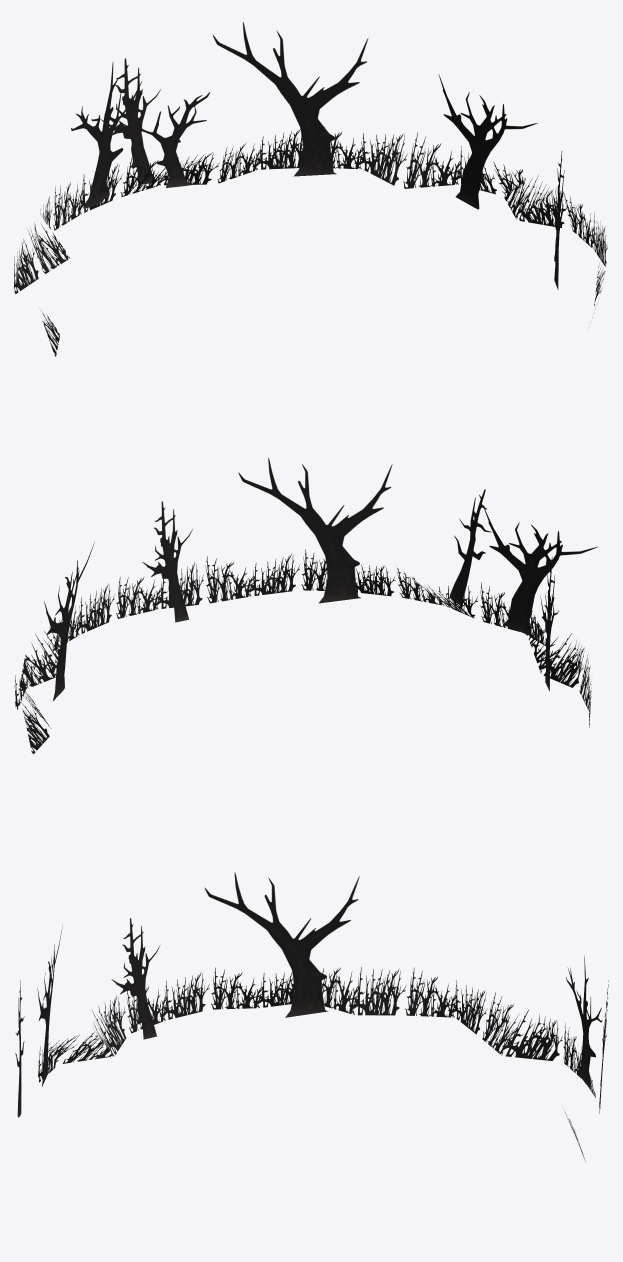
The model's file is village_trees_middle.gltf.
The picture shows the model from 3 angles, top to bottom: view 1: azimuth 30°, elevation 25°; view 2: azimuth 150°, elevation 25°; view 3: azimuth 270°, elevation 25°; orthographic projection. The views are drawn at different scales.
Parts seen in each view (by area): view 1: tree8.001; view 2: tree8.001; view 3: tree8.001.
Boxes of the visible parts, x1,y1,x2,y2 form: tree8.001: [14, 22, 607, 356]; tree8.001: [14, 458, 597, 754]; tree8.001: [15, 872, 608, 1161].
Bounding box in the file's own units: 39.43 × 12.18 × 40.3.
1 material, 1 textured.
